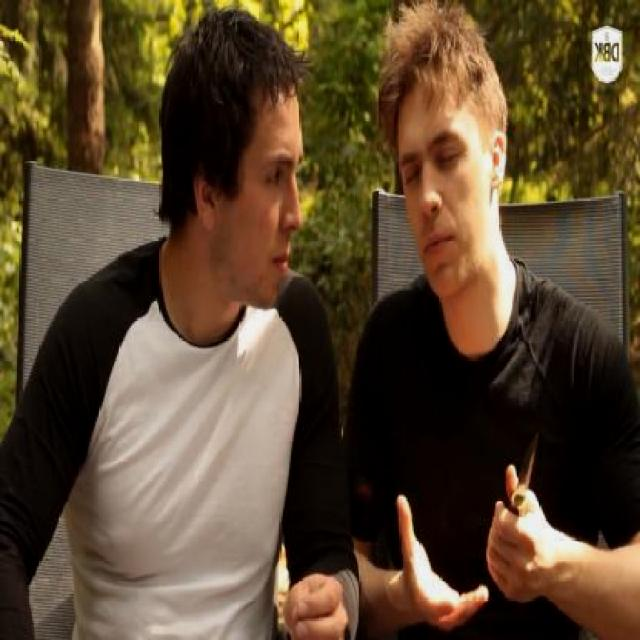knife: (482, 397, 549, 572)
